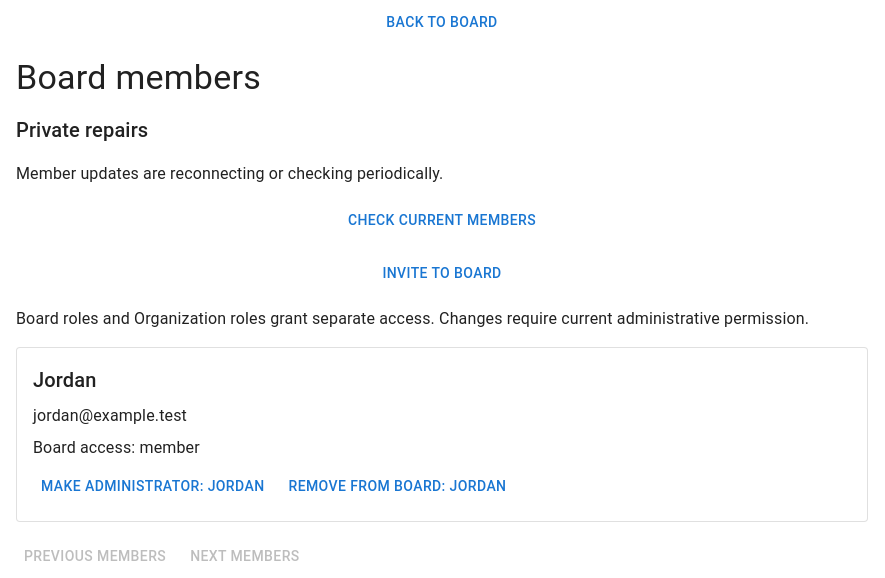
Test: invalidates open consent and clears protected data when live refresh discovers revoked administration
Click the button "Make administrator: Jordan". click: (153, 487)
box: [33, 468, 272, 505]
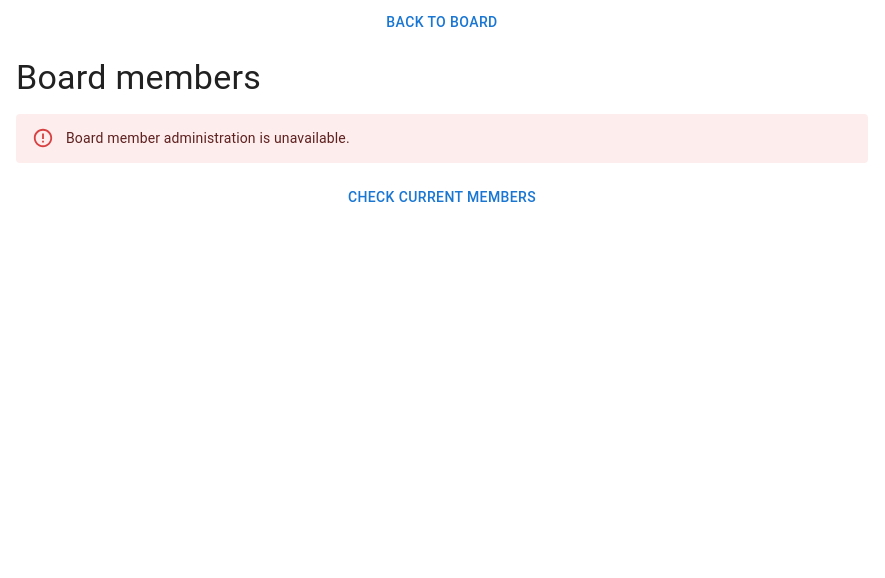
Result: the text "Board member administration is unavailable." is shown at [66, 130, 350, 146]
Result: the text "jordan@example.test" is gone
Result: the heading "Private repairs" is gone
